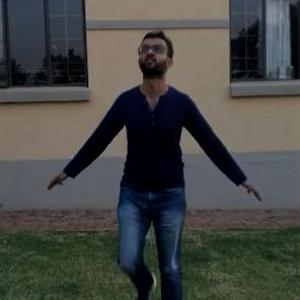land: (43, 18, 290, 293)
